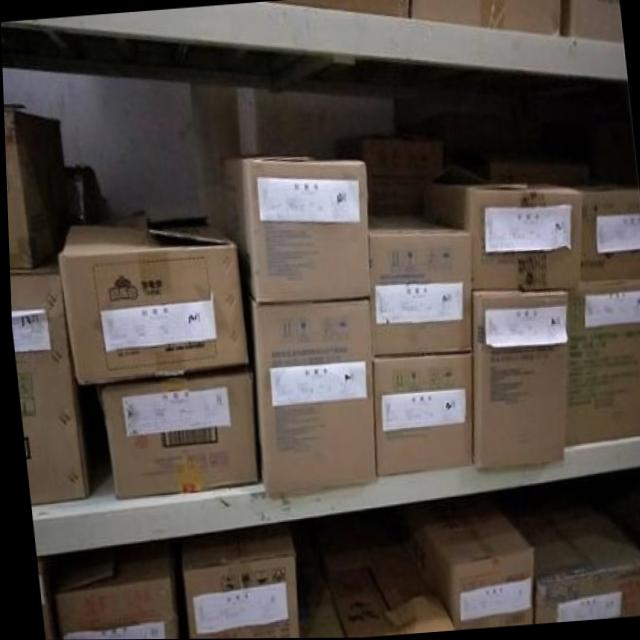box: (56, 217, 248, 383), (242, 292, 374, 497), (8, 274, 107, 505), (222, 152, 371, 305), (382, 490, 532, 628), (95, 371, 254, 496), (498, 483, 640, 622), (285, 520, 451, 638), (422, 172, 581, 289), (469, 288, 563, 468), (366, 211, 472, 356), (176, 523, 294, 639), (338, 125, 487, 215), (49, 533, 174, 640), (561, 280, 640, 449), (370, 357, 470, 479), (3, 106, 71, 269), (238, 88, 396, 157), (556, 179, 640, 286), (191, 87, 243, 236), (412, 0, 563, 36), (66, 160, 114, 221), (568, 0, 622, 43), (274, 0, 413, 16), (36, 559, 50, 640)
